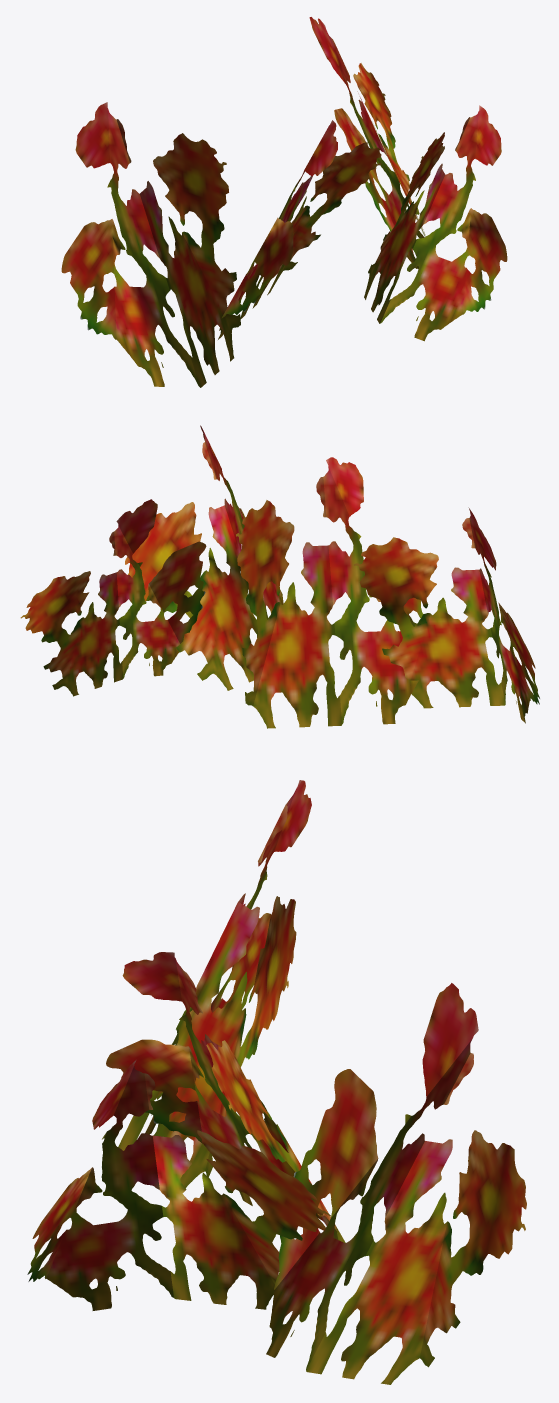
The model's file is F2_cao_01.FBX.
3 views of the same model, one above another, from view 1: azimuth 30°, elevation 25°; view 2: azimuth 150°, elevation 25°; view 3: azimuth 270°, elevation 25° (orthographic). The views are drawn at different scales.
Parts seen in each view (by area): view 1: ____04; view 2: ____04; view 3: ____04.
Boxes of the visible parts, x1,y1,x2,y2 form: ____04: [61, 17, 507, 387]; ____04: [20, 425, 539, 728]; ____04: [27, 780, 526, 1384].
Size of the model in its own units: 169 by 94.38 by 122.
